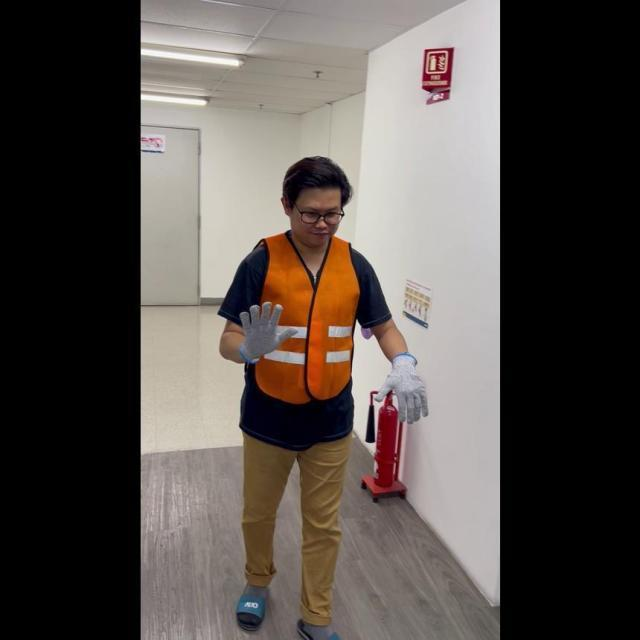gloved_hand: (233, 296, 296, 360), (376, 351, 429, 423)
